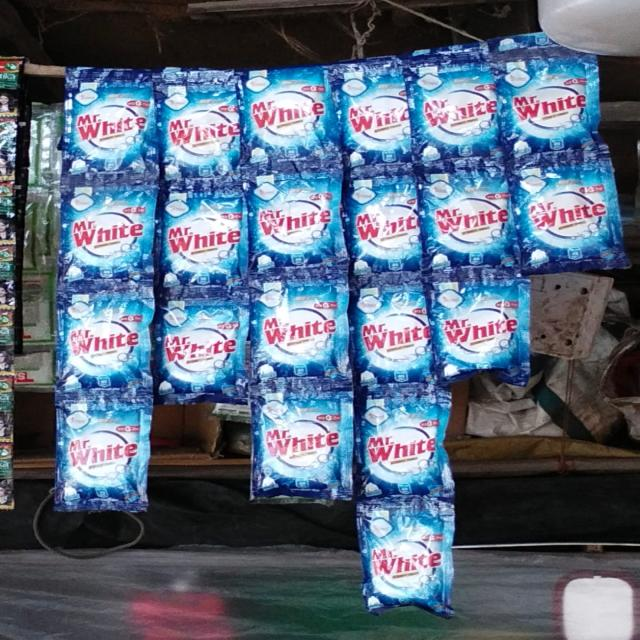non-ubl: (258, 269, 356, 393), (519, 165, 625, 275), (63, 77, 163, 188), (360, 502, 450, 622), (419, 162, 514, 274), (258, 392, 355, 497), (62, 289, 151, 402), (157, 188, 248, 298), (59, 401, 150, 508), (504, 54, 592, 164), (158, 297, 245, 408), (62, 191, 157, 290), (353, 284, 436, 391), (362, 392, 444, 500), (440, 276, 526, 378), (162, 84, 246, 188), (245, 77, 336, 172), (408, 68, 495, 163), (259, 172, 336, 270), (347, 75, 422, 172), (359, 176, 424, 283)
